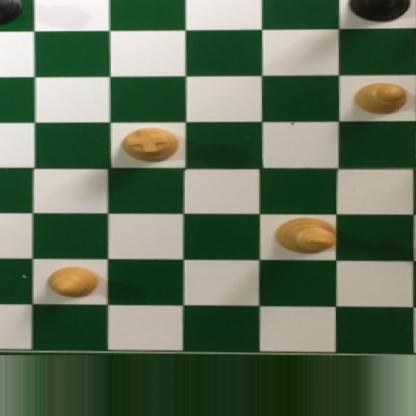black-king: (345, 0, 416, 25)
black-rook: (0, 0, 20, 24)
white-king: (271, 216, 337, 258)
white-pawn: (43, 263, 102, 298), (353, 82, 411, 115)
white-rook: (117, 124, 179, 162)
